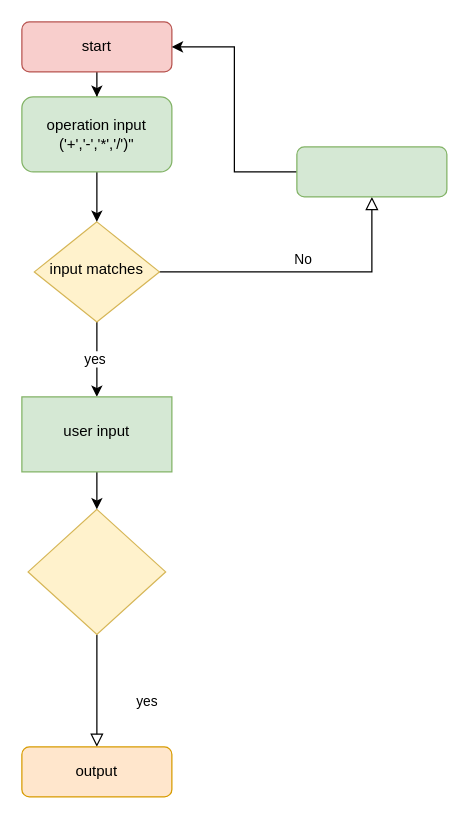
The diagram is 469 pixels wide and 819 high, and some of its shapes have lost their labels. Each missing label, with the centre of its shape:
input valid: point 96,571
invalid input: point 371,171
